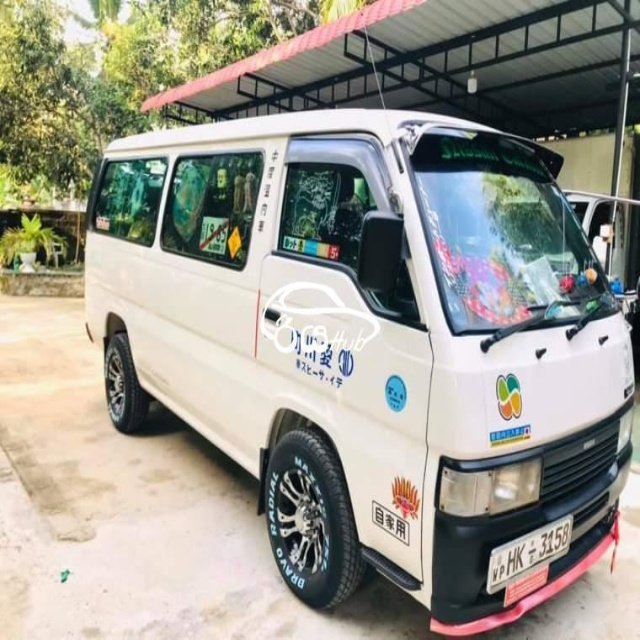Van: (84, 108, 635, 638)
